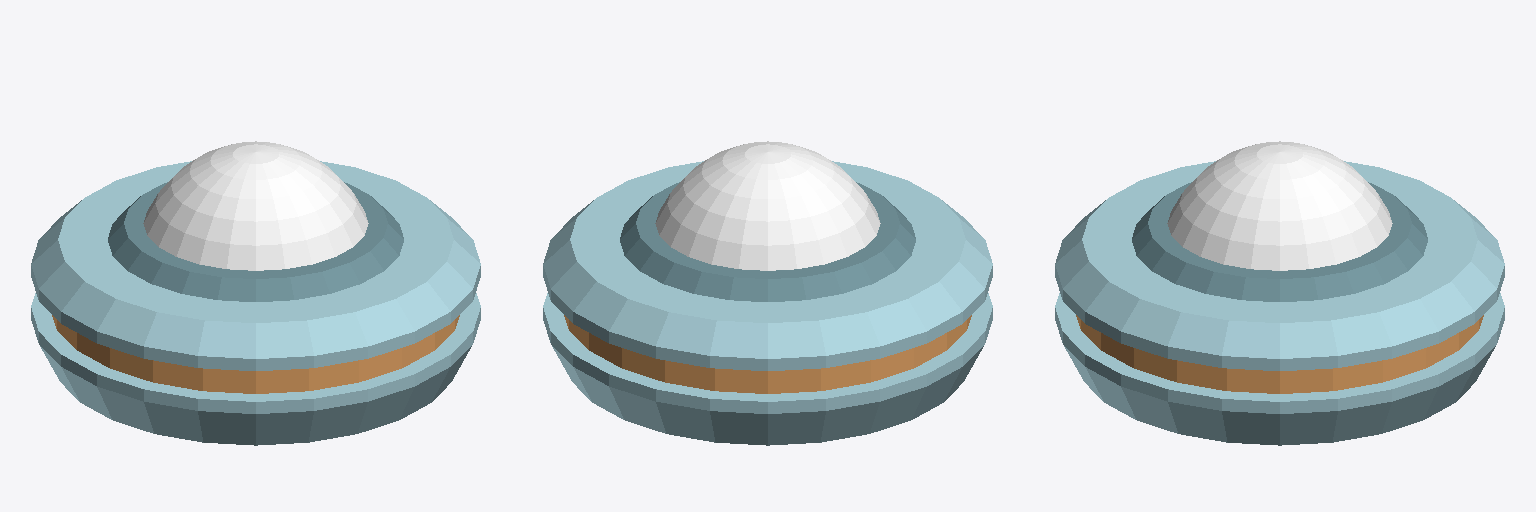
The model's file is EnemyYellow.obj.
The picture shows the model from 3 angles: view 1: azimuth 30°, elevation 25°; view 2: azimuth 150°, elevation 25°; view 3: azimuth 270°, elevation 25°; orthographic projection.
Visible parts, largest first — view 1: enemy_ufoYellow; view 2: enemy_ufoYellow; view 3: enemy_ufoYellow.
Boxes of the visible parts, x1=… form: enemy_ufoYellow: x1=31, y1=141, x2=480, y2=445; enemy_ufoYellow: x1=543, y1=141, x2=992, y2=445; enemy_ufoYellow: x1=1055, y1=141, x2=1504, y2=445.
Size of the model in its own units: 1 by 0.51 by 1.